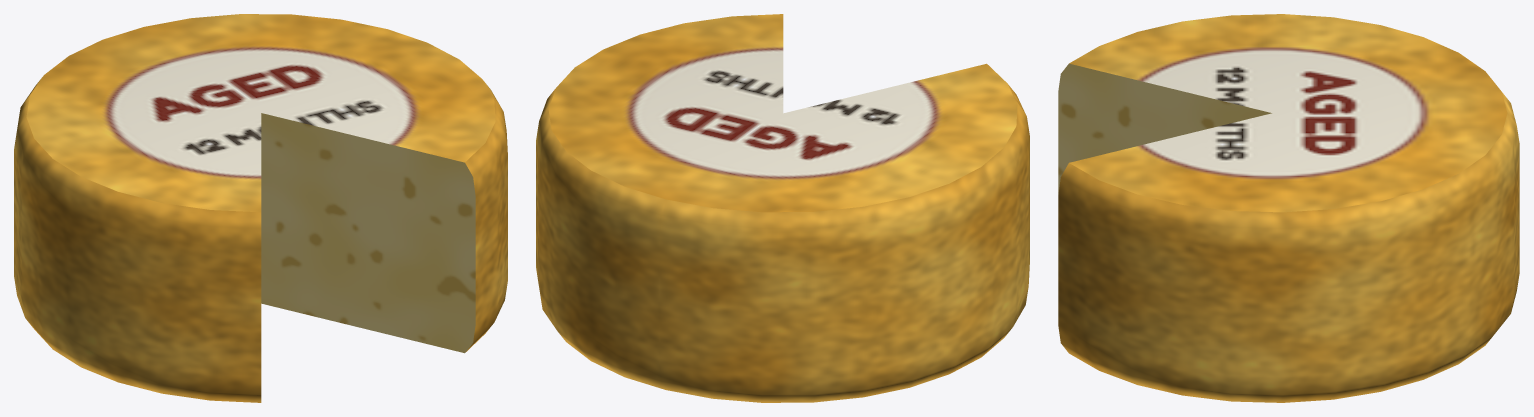
Rendered from sk_deli_cheese_wheel_cut.glb.
3 renders of one model, left to right at view 1: azimuth 30°, elevation 25°; view 2: azimuth 150°, elevation 25°; view 3: azimuth 270°, elevation 25°, orthographic.
Parts seen in each view (by area): view 1: sk_deli_cheese_wheel_cut; view 2: sk_deli_cheese_wheel_cut; view 3: sk_deli_cheese_wheel_cut.
Part boxes in pixels (x1,y1,x2,y2): sk_deli_cheese_wheel_cut: (14,14,507,402); sk_deli_cheese_wheel_cut: (536,14,1029,402); sk_deli_cheese_wheel_cut: (1058,14,1519,402).
Bounding box in the file's own units: 0.1998 × 0.085 × 0.1866.
1 material, 1 textured.
